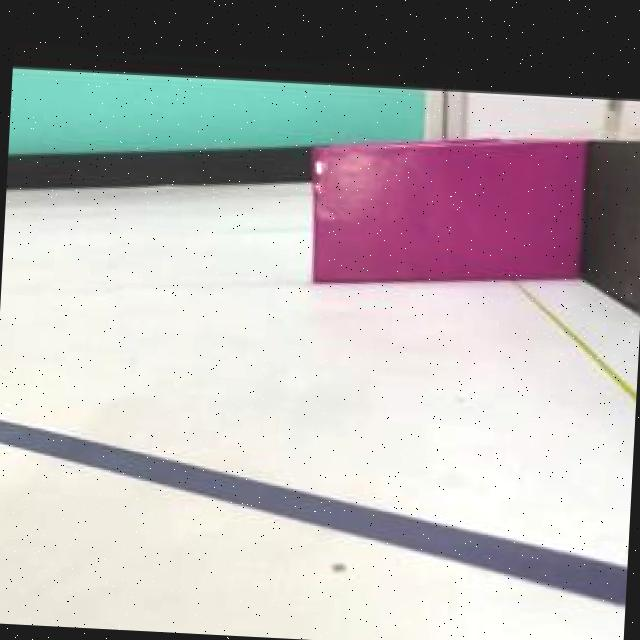xparking: (306, 145, 573, 292)
